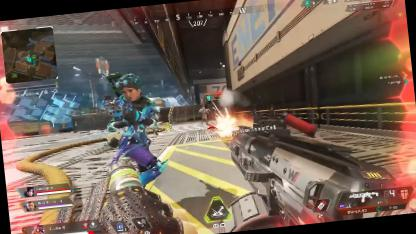Target: (102, 66, 168, 177), (198, 104, 208, 125)
